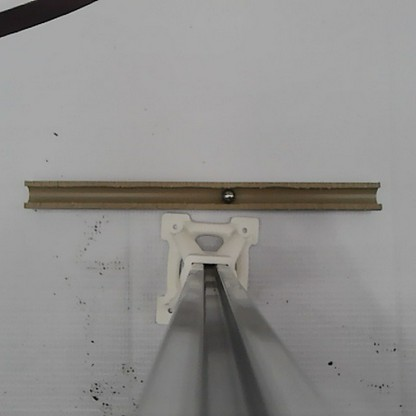ironball: (220, 185, 236, 205)
